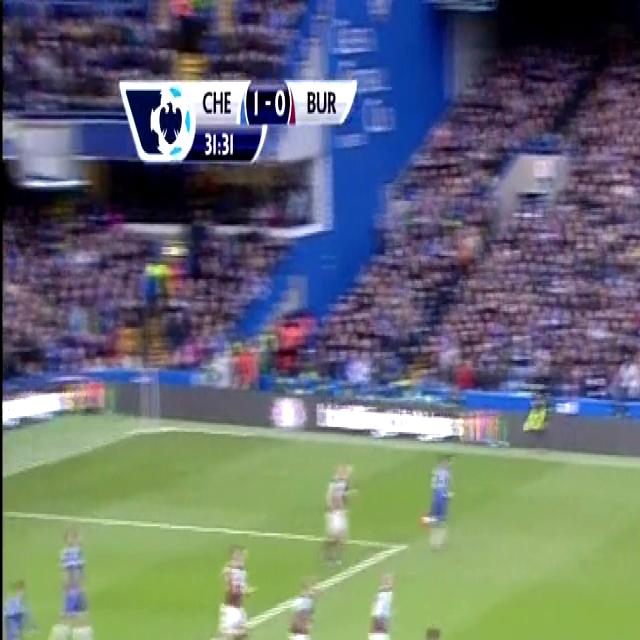soccer-player: (47, 505, 102, 640), (316, 442, 359, 590), (212, 522, 263, 640), (418, 440, 460, 560), (352, 554, 402, 640), (274, 562, 321, 640), (2, 562, 38, 640), (404, 611, 456, 640)
